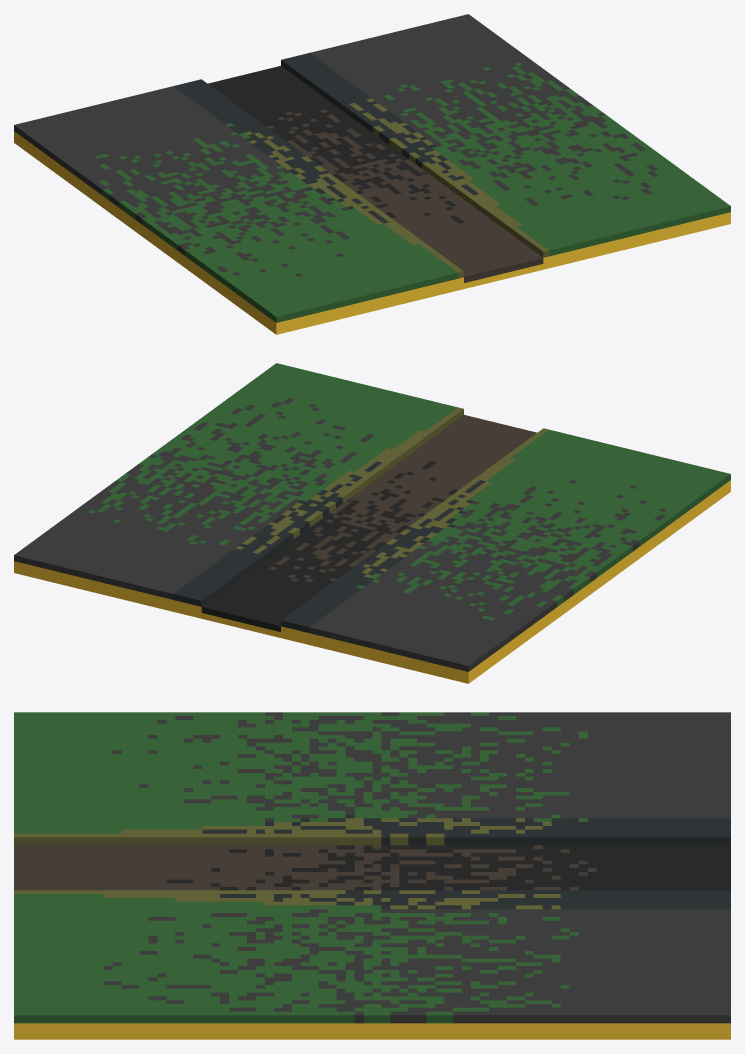
Rendered from dirtToCity.obj.
3 views of the same model, one above another, from view 1: azimuth 30°, elevation 25°; view 2: azimuth 150°, elevation 25°; view 3: azimuth 270°, elevation 25° (orthographic). The views are drawn at different scales.
Parts seen in each view (by area): view 1: dirtToCity; view 2: dirtToCity; view 3: dirtToCity.
Boxes of the visible parts, x1=… form: dirtToCity: x1=14, y1=14, x2=730, y2=334; dirtToCity: x1=14, y1=363, x2=730, y2=683; dirtToCity: x1=14, y1=712, x2=730, y2=1039.
Size of the model in its own units: 80 by 3 by 80.
Materials: 1 (1 with a texture image).
